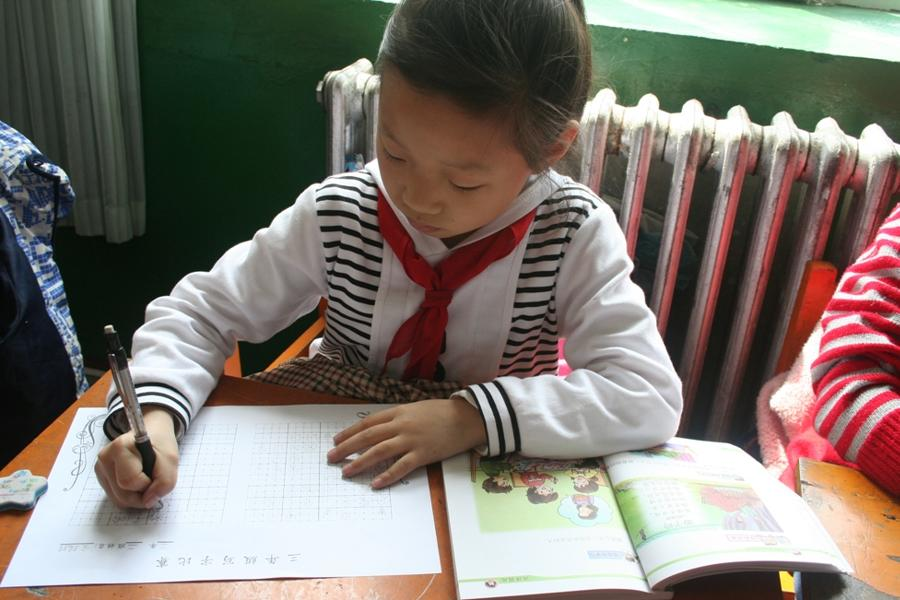person: (95, 1, 686, 512)
